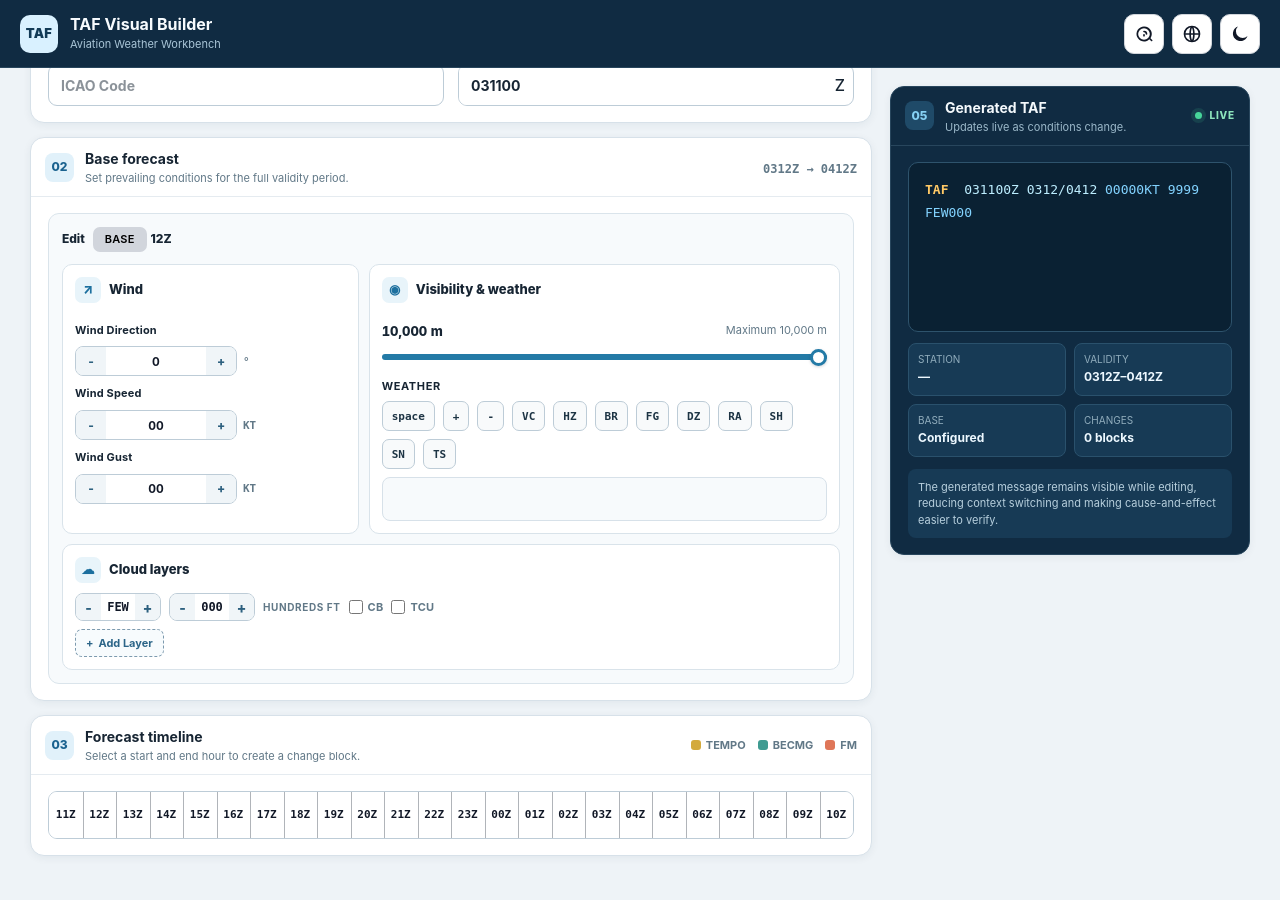
Test: TafBuilder aviation workbench › uses the approved text delete action for a selected change
(page scrolled)
Click the button named "Select 12Z".
click(99, 815)  # box [82,792,116,838]
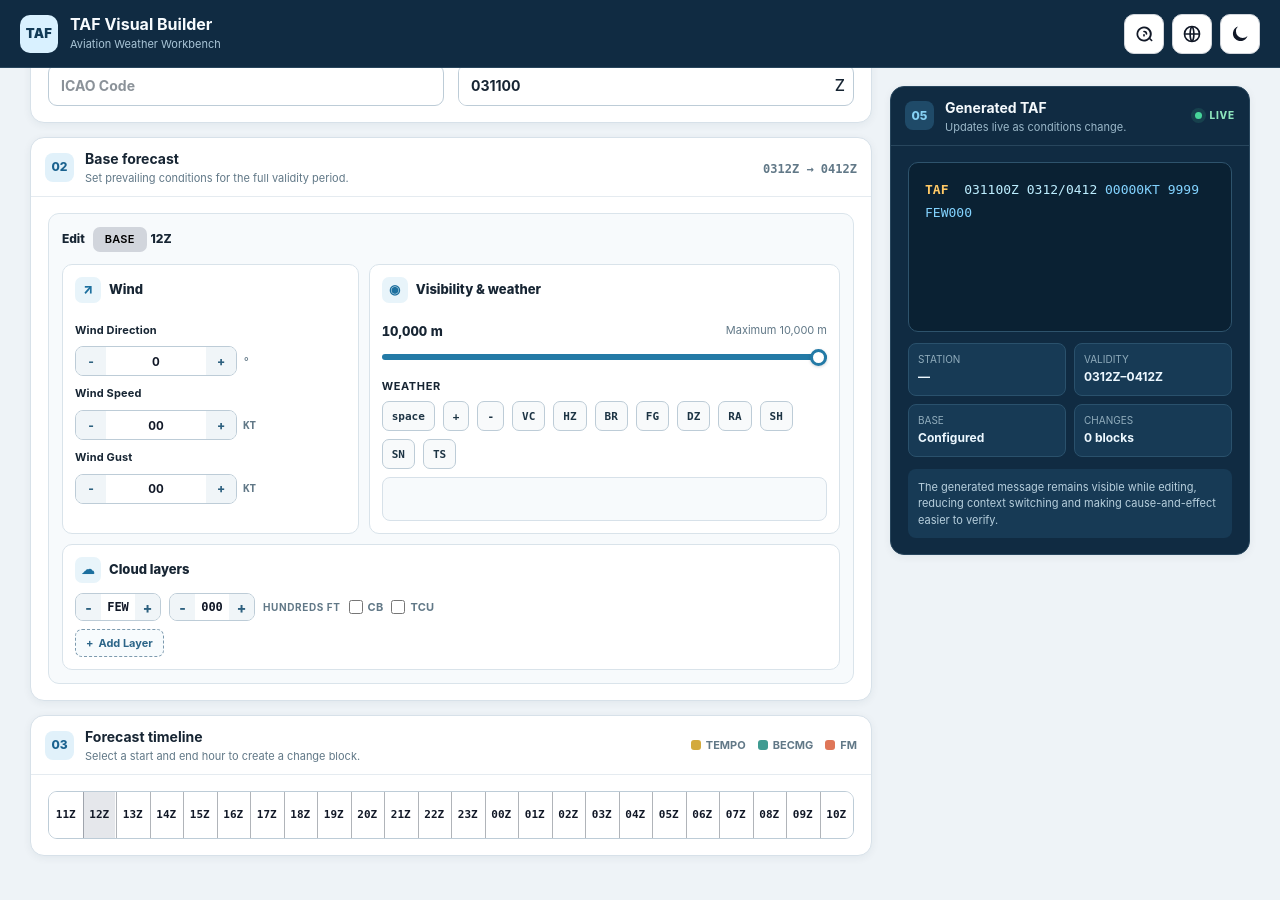
Click the button named "Select 14Z".
click(166, 815)  # box [150,792,183,838]
(page scrolled)
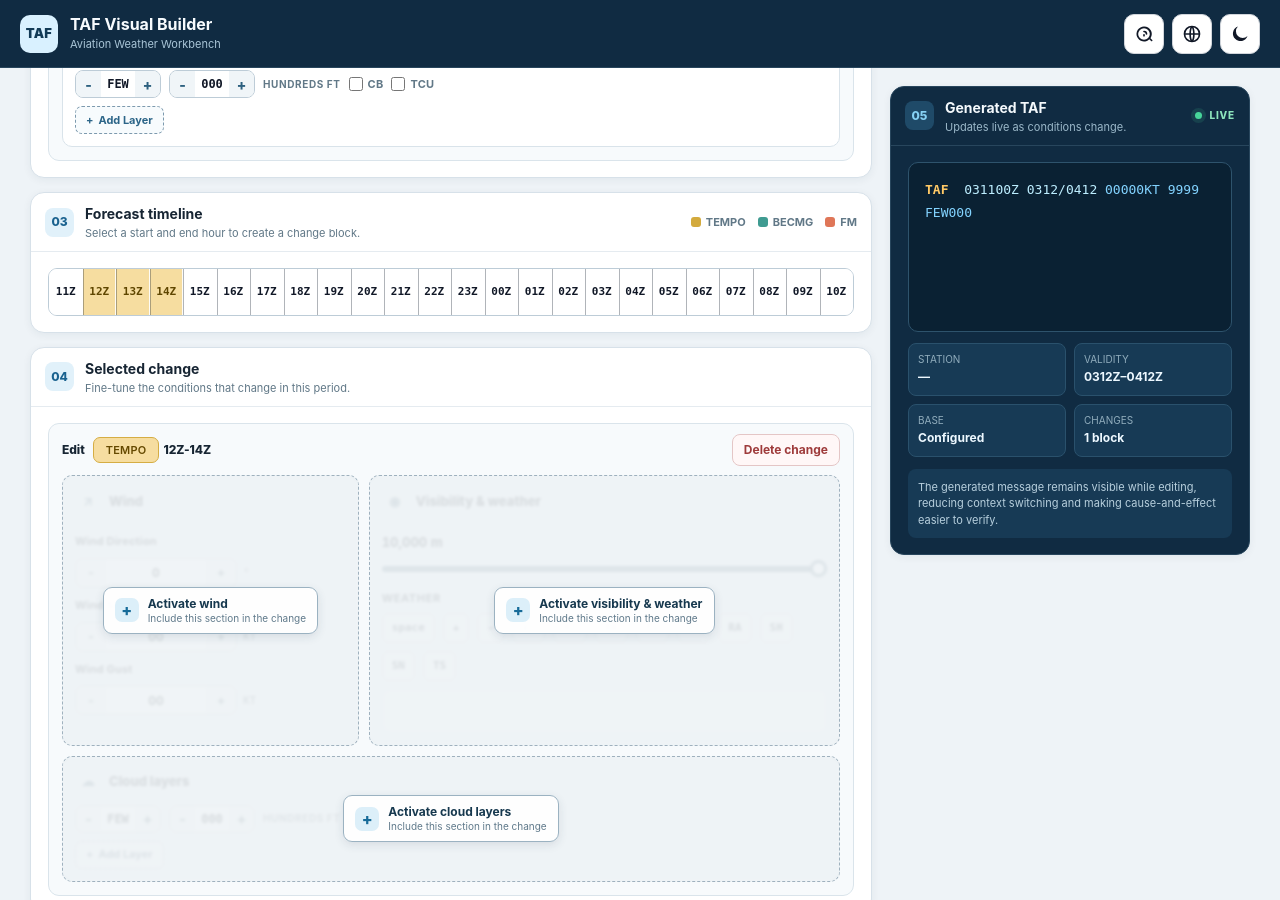
Check: the button "Delete change" is shown, box [732,434,840,466]
